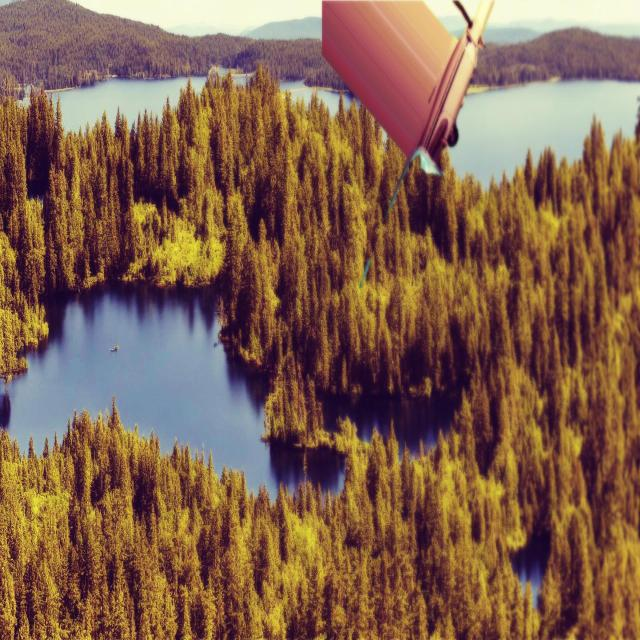airplane: (321, 0, 495, 221)
